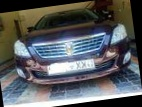car: (8, 2, 134, 90)
